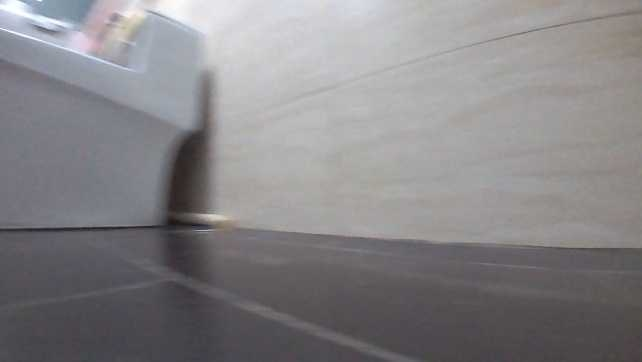toilet: (1, 6, 206, 235)
